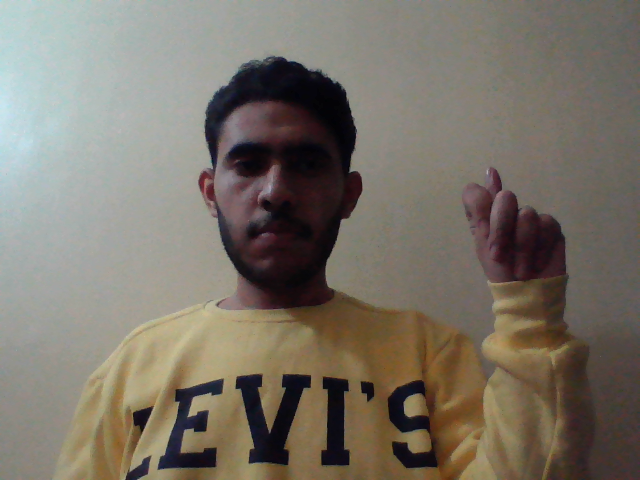T: (459, 158, 583, 310)
